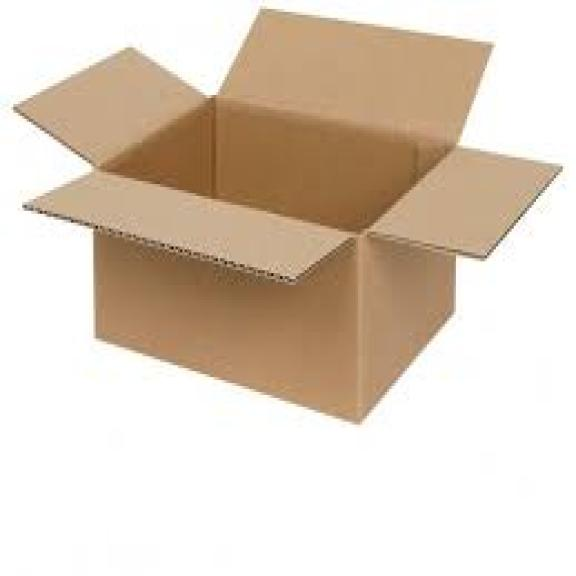Kertas: (20, 9, 548, 419)
